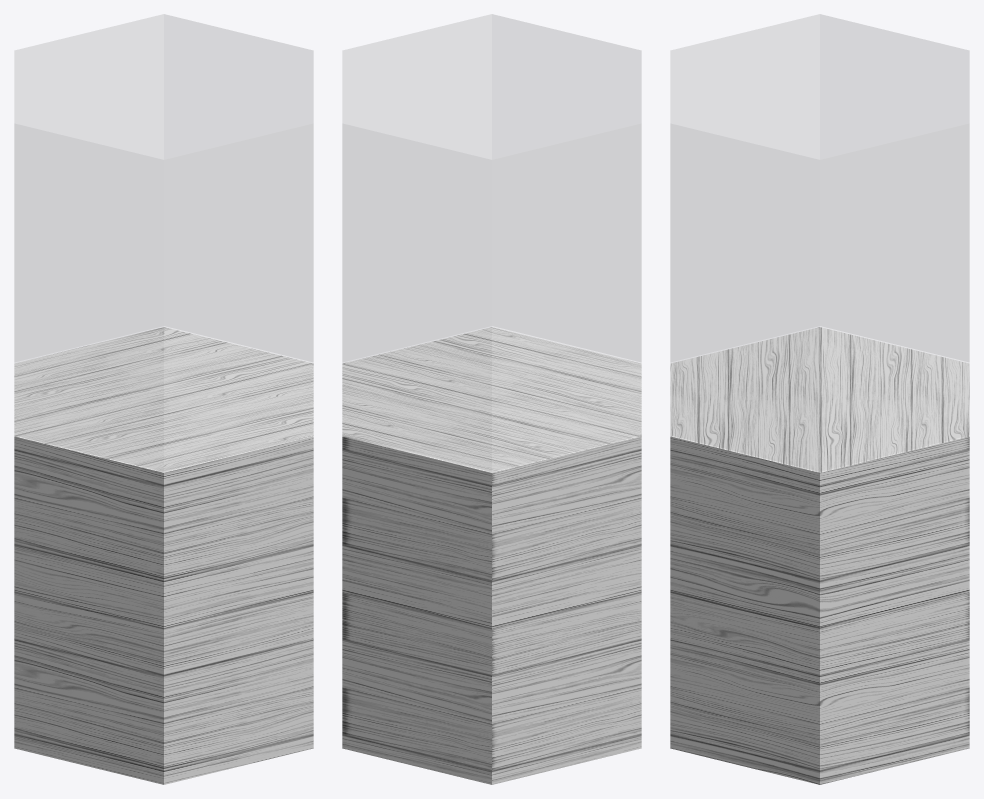
File: Circledisplayed.fbx
The picture shows the model from 3 angles, left to right: view 1: azimuth 30°, elevation 25°; view 2: azimuth 150°, elevation 25°; view 3: azimuth 270°, elevation 25°; orthographic projection.
Parts seen in each view (by area): view 1: cyclinderdisplay, cyclinderdisplay1; view 2: cyclinderdisplay, cyclinderdisplay1; view 3: cyclinderdisplay, cyclinderdisplay1.
Boxes of the visible parts, x1,y1,x2,y2 form: cyclinderdisplay: (14, 327, 313, 784); cyclinderdisplay1: (14, 14, 313, 470); cyclinderdisplay: (342, 327, 641, 784); cyclinderdisplay1: (342, 14, 641, 470); cyclinderdisplay: (670, 327, 969, 784); cyclinderdisplay1: (670, 14, 969, 470).
Bounding box in the file's own units: 0.6882 × 1.37 × 0.596.
